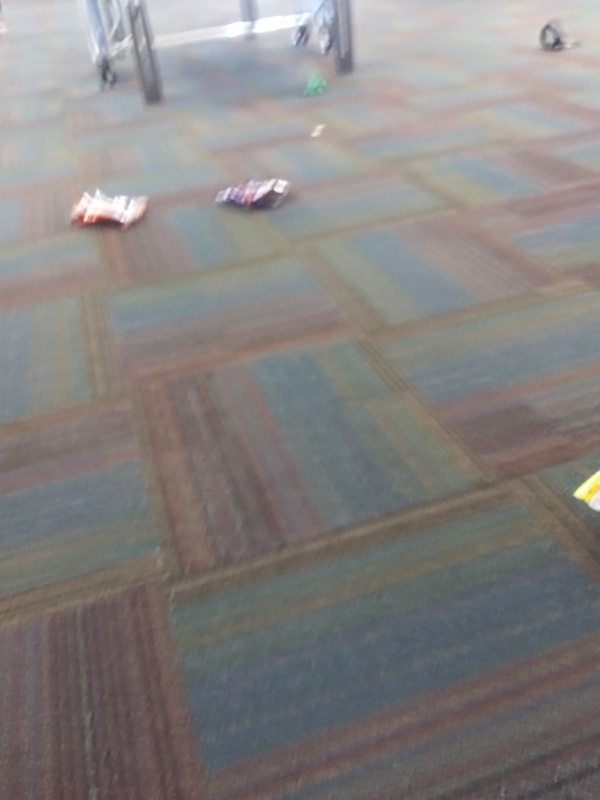bag: (63, 187, 158, 232), (206, 173, 292, 211), (567, 463, 600, 517)
